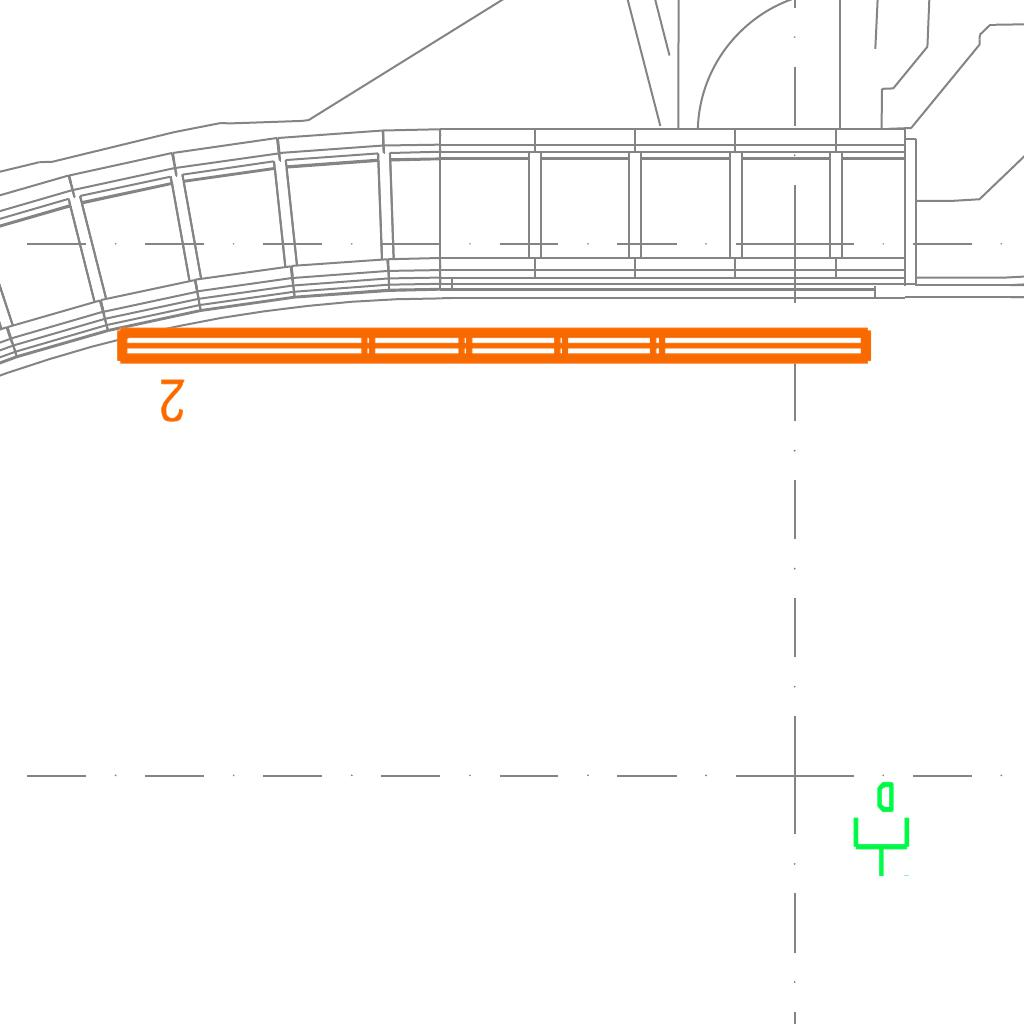Ambulanz_Pendelleuchte_LED: (108, 315, 882, 427)
Datenanschluss_einfach: (845, 779, 914, 879)
